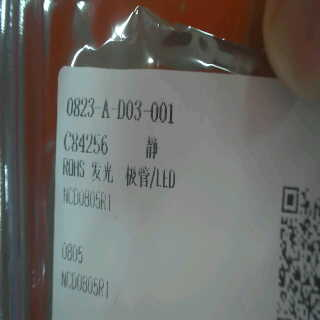LED: (88, 160, 181, 189)
